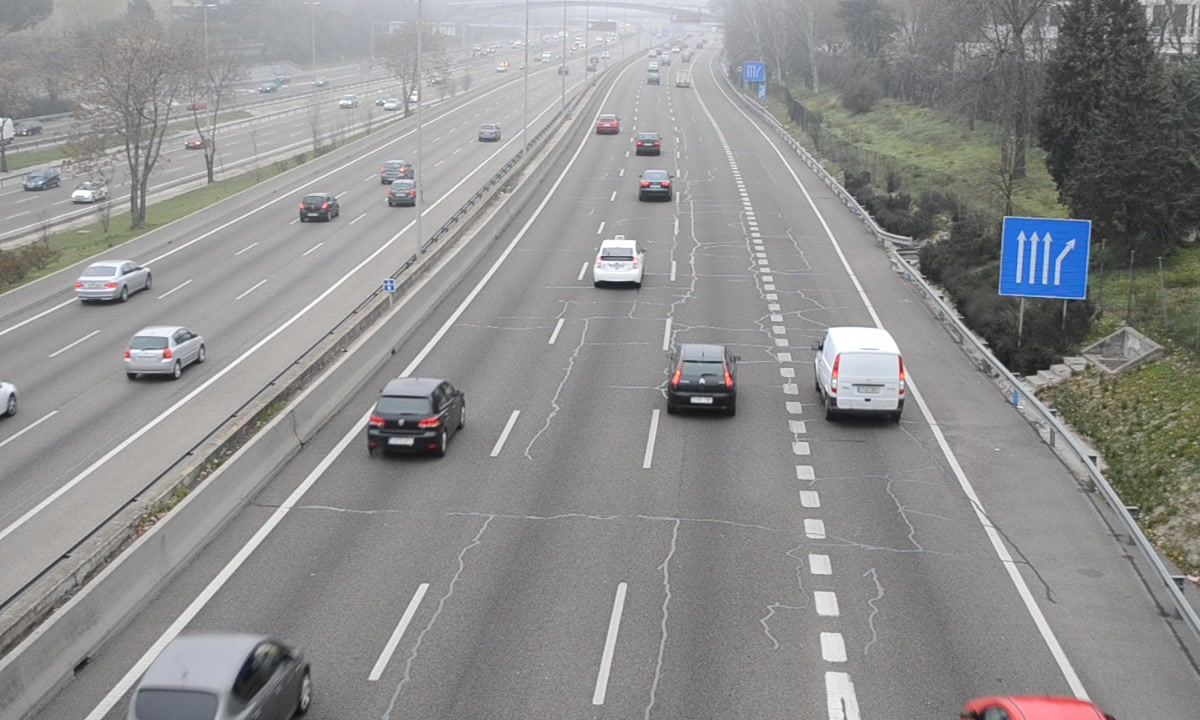car: (124, 634, 310, 720), (366, 378, 466, 456), (670, 345, 735, 412), (592, 238, 644, 286), (637, 169, 674, 202), (634, 130, 662, 156), (595, 114, 620, 134)
van: (813, 326, 904, 418)
